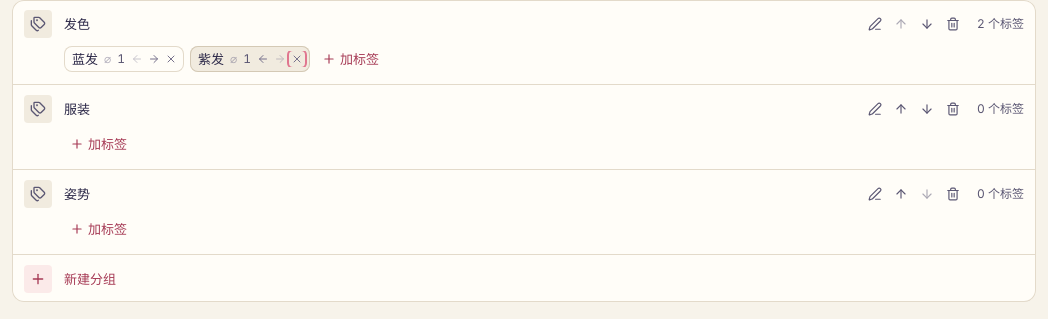
Test: 移出成员后，焦点落在所在分组上，不丢到页面
Click the button named "把“紫发”移出“发色”" at (297, 59), box x1=289 y1=51 x2=305 y2=67
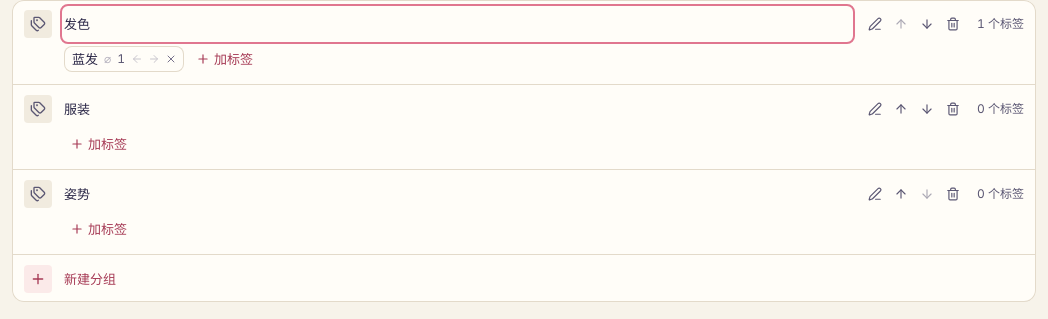
Expected: the button "把“紫发”移出“发色”" is gone
